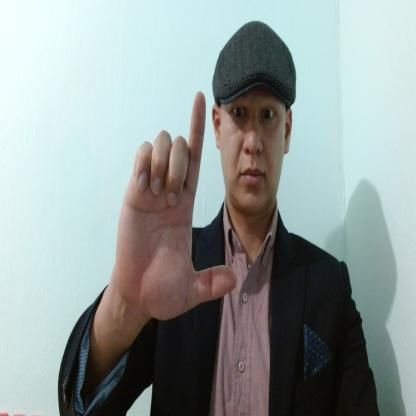L: (116, 91, 237, 320)
